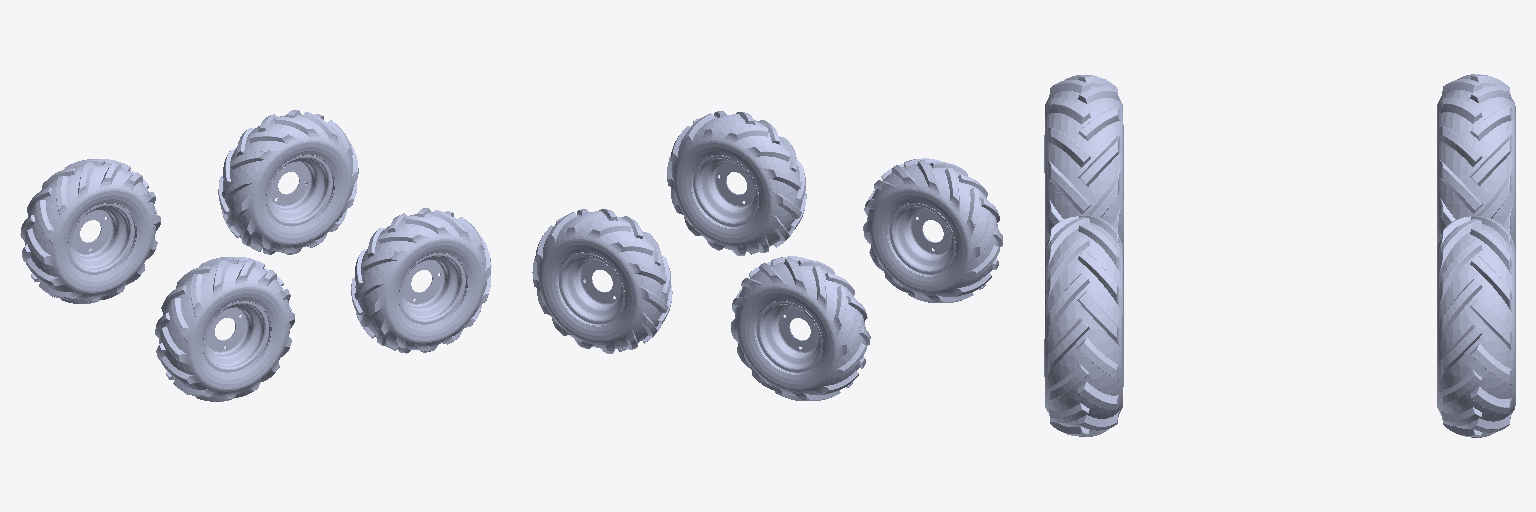
robot.urdf — scout:
<?xml version="1.0" encoding="utf-8"?>
<!-- This URDF was automatically created by SolidWorks to URDF Exporter! Originally created by [author] ([email redacted]) 
     Commit Version: 1.5.1-0-g916b5db  Build Version: 1.5.7152.31018
     For more information, please see http://wiki.ros.org/sw_urdf_exporter -->
<robot
  name="scout">
  <link
    name="base_link">
    <inertial>
      <origin
        xyz="0.00040316 0.00018112 0.054777"
        rpy="0 0 0" />
      <mass
        value="50.594" />
      <inertia
        ixx="3.1632"
        ixy="0.0095354"
        ixz="-0.0052362"
        iyy="3.4936"
        iyz="0.00027654"
        izz="5.9359" />
    </inertial>
    <visual>
      <origin
        xyz="0 0 0"
        rpy="0 0 0" />
      <geometry>
        <mesh
          filename="package://scout_robot/meshes/base_link.STL" />
      </geometry>
      <material
        name="">
        <color
          rgba="1 1 1 1" />
      </material>
    </visual>
    <collision>
      <origin
        xyz="0 0 0"
        rpy="0 0 0" />
      <geometry>
        <mesh
          filename="package://scout_robot/meshes/base_link.STL" />
      </geometry>
    </collision>
  </link>
  <link
    name="front left_Link">
    <inertial>
      <origin
        xyz="-2.6549E-09 -3.2717E-05 -1.1121E-07"
        rpy="0 0 0" />
      <mass
        value="6.2792" />
      <inertia
        ixx="0.048957"
        ixy="-1.6382E-09"
        ixz="-8.6738E-09"
        iyy="0.087434"
        iyz="6.3603E-10"
        izz="0.048957" />
    </inertial>
    <visual>
      <origin
        xyz="0 0 0"
        rpy="0 0 0" />
      <geometry>
        <mesh
          filename="package://scout_robot/meshes/front left_Link.STL" />
      </geometry>
      <material
        name="">
        <color
          rgba="0.79216 0.81961 0.93333 1" />
      </material>
    </visual>
    <collision>
      <origin
        xyz="0 0 0"
        rpy="0 0 0" />
      <geometry>
        <mesh
          filename="package://scout_robot/meshes/front left_Link.STL" />
      </geometry>
    </collision>
  </link>
  <joint
    name="front left_joint"
    type="revolute">
    <origin
      xyz="0.249 0.29153 0.024097"
      rpy="0 0 0" />
    <parent
      link="base_link" />
    <child
      link="front left_Link" />
    <axis
      xyz="0 1 0" />
    <limit
      lower="-180"
      upper="180"
      effort="0"
      velocity="0" />
  </joint>
  <link
    name="back left_Link">
    <inertial>
      <origin
        xyz="1.087E-07 3.2717E-05 -2.3629E-08"
        rpy="0 0 0" />
      <mass
        value="6.2792" />
      <inertia
        ixx="0.048957"
        ixy="8.5452E-10"
        ixz="1.5173E-09"
        iyy="0.087434"
        iyz="-2.6266E-09"
        izz="0.048957" />
    </inertial>
    <visual>
      <origin
        xyz="0 0 0"
        rpy="0 0 0" />
      <geometry>
        <mesh
          filename="package://scout_robot/meshes/back left_Link.STL" />
      </geometry>
      <material
        name="">
        <color
          rgba="0.79216 0.81961 0.93333 1" />
      </material>
    </visual>
    <collision>
      <origin
        xyz="0 0 0"
        rpy="0 0 0" />
      <geometry>
        <mesh
          filename="package://scout_robot/meshes/back left_Link.STL" />
      </geometry>
    </collision>
  </link>
  <joint
    name="back left_joint"
    type="revolute">
    <origin
      xyz="-0.249 0.29153 0.024097"
      rpy="0 0 0" />
    <parent
      link="base_link" />
    <child
      link="back left_Link" />
    <axis
      xyz="0 -1 0" />
    <limit
      lower="-180"
      upper="180"
      effort="0"
      velocity="0" />
  </joint>
  <link
    name="front right_Link">
    <inertial>
      <origin
        xyz="-3.3128E-07 -3.2716E-05 2.169E-08"
        rpy="0 0 0" />
      <mass
        value="6.2792" />
      <inertia
        ixx="0.048958"
        ixy="0.00026119"
        ixz="-1.925E-08"
        iyy="0.087432"
        iyz="3.2348E-09"
        izz="0.048957" />
    </inertial>
    <visual>
      <origin
        xyz="0 0 0"
        rpy="0 0 0" />
      <geometry>
        <mesh
          filename="package://scout_robot/meshes/front right_Link.STL" />
      </geometry>
      <material
        name="">
        <color
          rgba="0.79216 0.81961 0.93333 1" />
      </material>
    </visual>
    <collision>
      <origin
        xyz="0 0 0"
        rpy="0 0 0" />
      <geometry>
        <mesh
          filename="package://scout_robot/meshes/front right_Link.STL" />
      </geometry>
    </collision>
  </link>
  <joint
    name="front right_joint"
    type="revolute">
    <origin
      xyz="0.24702 -0.29093 0.024097"
      rpy="0 0 0" />
    <parent
      link="base_link" />
    <child
      link="front right_Link" />
    <axis
      xyz="0.0067885 0.99998 0" />
    <limit
      lower="-180"
      upper="180"
      effort="0"
      velocity="0" />
  </joint>
  <link
    name="back right_Link">
    <inertial>
      <origin
        xyz="-1.135E-07 3.2717E-05 -2.3624E-08"
        rpy="0 0 0" />
      <mass
        value="6.2792" />
      <inertia
        ixx="0.048958"
        ixy="-0.0002612"
        ixz="1.5517E-09"
        iyy="0.087432"
        iyz="-2.626E-09"
        izz="0.048957" />
    </inertial>
    <visual>
      <origin
        xyz="0 0 0"
        rpy="0 0 0" />
      <geometry>
        <mesh
          filename="package://scout_robot/meshes/back right_Link.STL" />
      </geometry>
      <material
        name="">
        <color
          rgba="0.79216 0.81961 0.93333 1" />
      </material>
    </visual>
    <collision>
      <origin
        xyz="0 0 0"
        rpy="0 0 0" />
      <geometry>
        <mesh
          filename="package://scout_robot/meshes/back right_Link.STL" />
      </geometry>
    </collision>
  </link>
  <joint
    name="back right_joint"
    type="revolute">
    <origin
      xyz="-0.24702 -0.29093 0.024097"
      rpy="0 0 0" />
    <parent
      link="base_link" />
    <child
      link="back right_Link" />
    <axis
      xyz="0.0067885 -0.99998 0" />
    <limit
      lower="-180"
      upper="180"
      effort="0"
      velocity="0" />
  </joint>
</robot>

--- What the picture shows (computed from the rendered views, not written in the file) ---
3 views of the same robot in one strip: view 1: azimuth 30°, elevation 25°; view 2: azimuth 150°, elevation 25°; view 3: azimuth 270°, elevation 25° (orthographic).
Model scout with 5 links and 4 joints (4 revolute), rooted at base_link, posed all joints at 0.
Links seen in each view (by area): view 1: front right_Link, back left_Link, front left_Link, back right_Link; view 2: back right_Link, back left_Link, front left_Link, front right_Link; view 3: front right_Link, front left_Link, back left_Link, back right_Link.
Boxes of the visible links, left/top/right/bottom form: front right_Link: left=351, top=208, right=491, bottom=353; back left_Link: left=20, top=159, right=160, bottom=303; front left_Link: left=218, top=110, right=358, bottom=254; back right_Link: left=155, top=257, right=294, bottom=401; back right_Link: left=863, top=158, right=1002, bottom=302; back left_Link: left=731, top=256, right=870, bottom=400; front left_Link: left=532, top=209, right=672, bottom=353; front right_Link: left=667, top=111, right=806, bottom=255; front right_Link: left=1044, top=215, right=1123, bottom=436; front left_Link: left=1437, top=216, right=1515, bottom=437; back left_Link: left=1437, top=74, right=1515, bottom=247; back right_Link: left=1044, top=75, right=1123, bottom=246.
Bounding box of the posed robot: 0.8279 × 0.6996 × 0.33 m (x, y, z).
Meshes: 5 distinct files referenced, 4 mesh visuals loaded (4 binary STL); not drawn: 1 (reference not matched to a file when rendering).